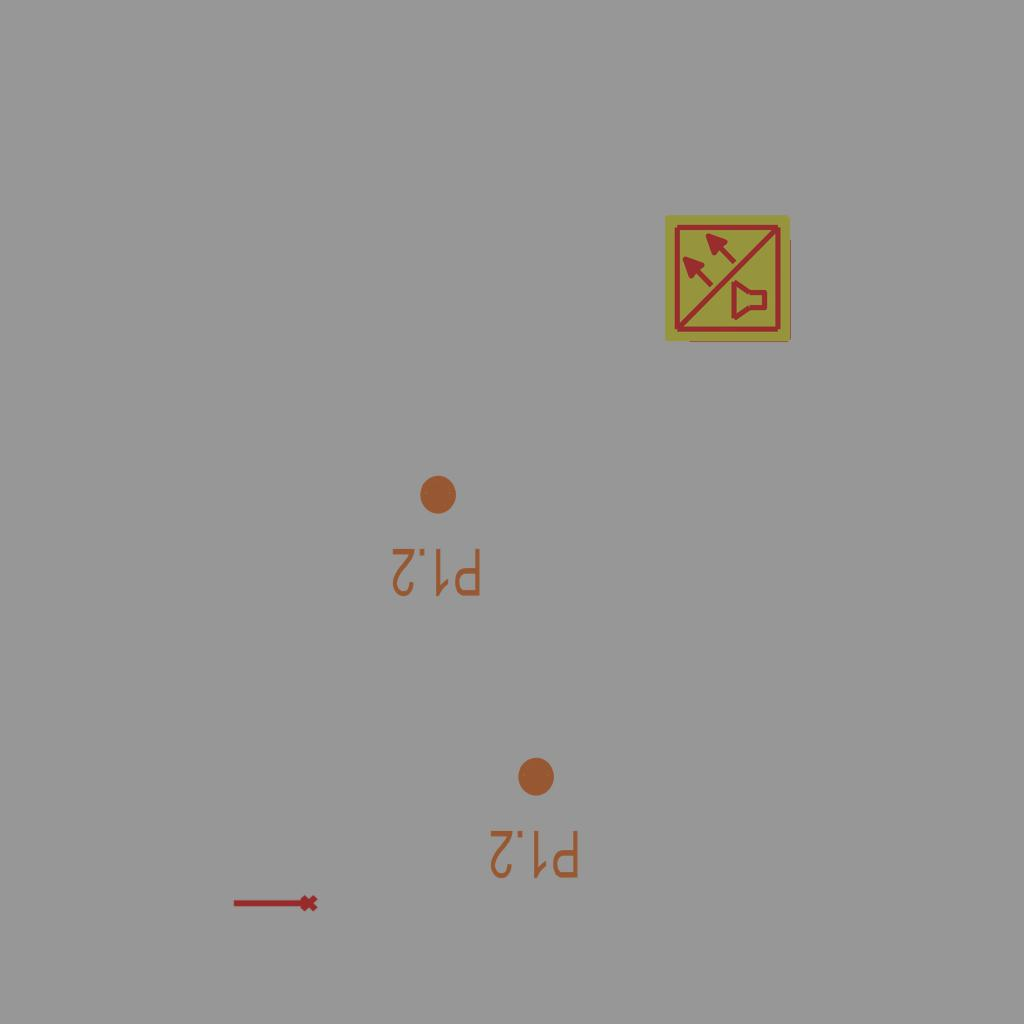ASR_Ansaugoeffnung: (231, 893, 319, 916)
Downlight_LED_Einbauleuchten_Flur: (488, 754, 581, 882), (390, 472, 483, 600)
OKW_Multisensormelder_(Kombination_optischer_Rauch-Kahlenmonoxid_Waerme-Melder): (662, 212, 794, 344)
